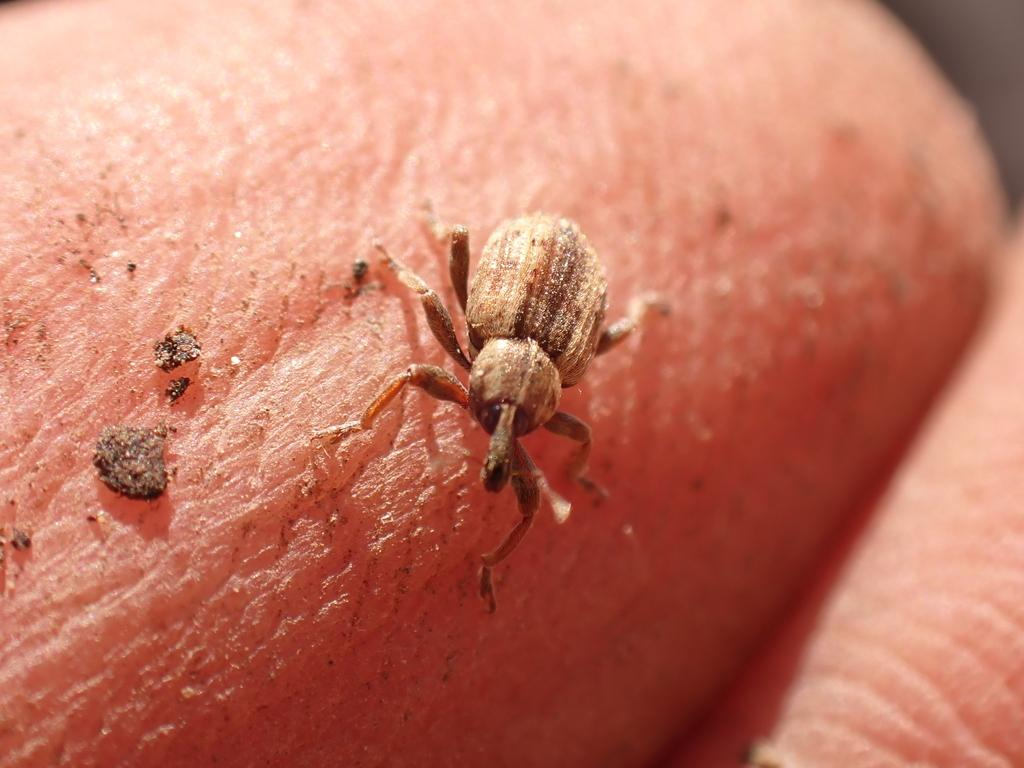weevils: (316, 141, 700, 640)
